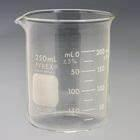Beaker: (8, 1, 118, 131)
